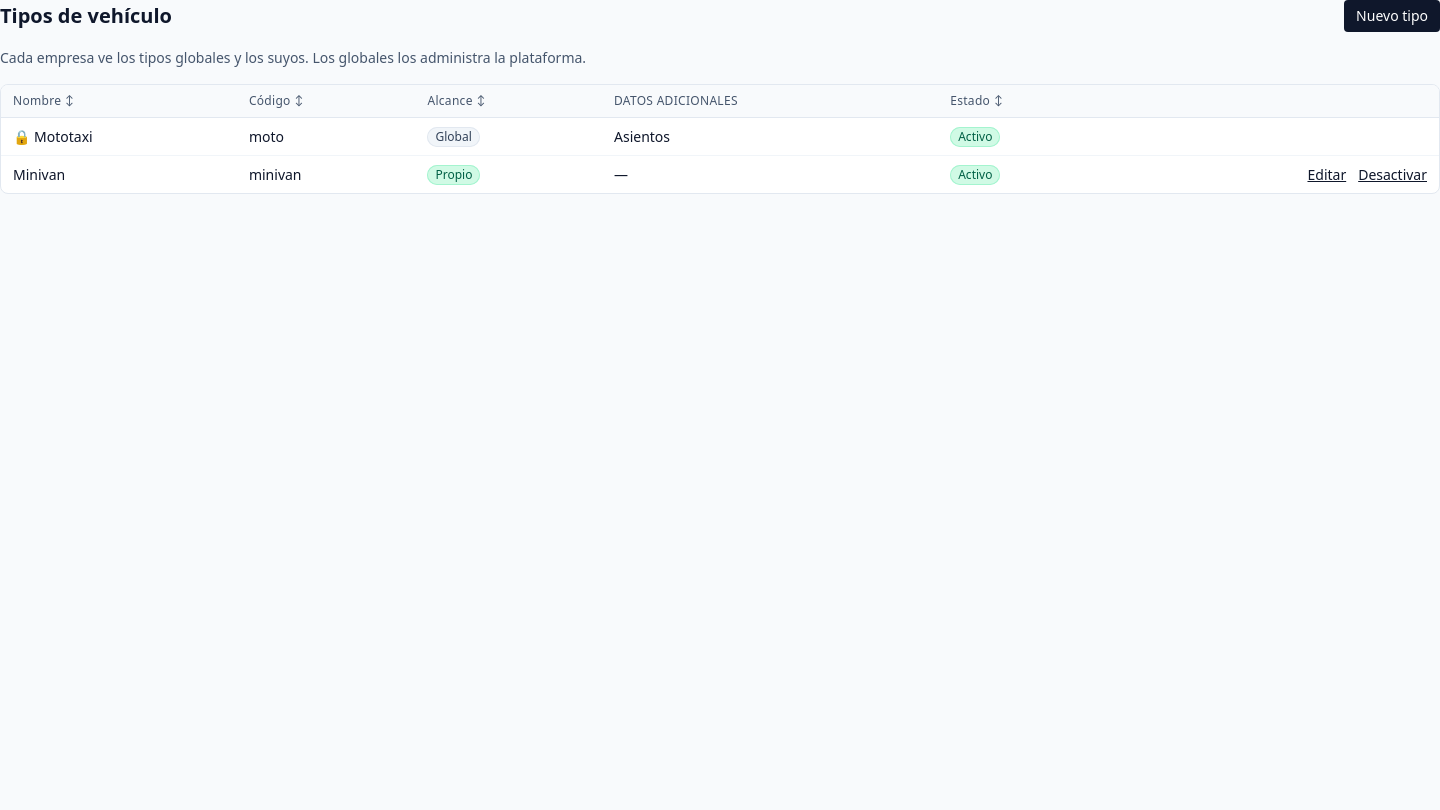
tipos de vehículo › el rechazo del servidor por un esquema no aditivo se muestra
Step 1. Click the button "Editar" → [1327, 174], box [1308,164,1346,184]
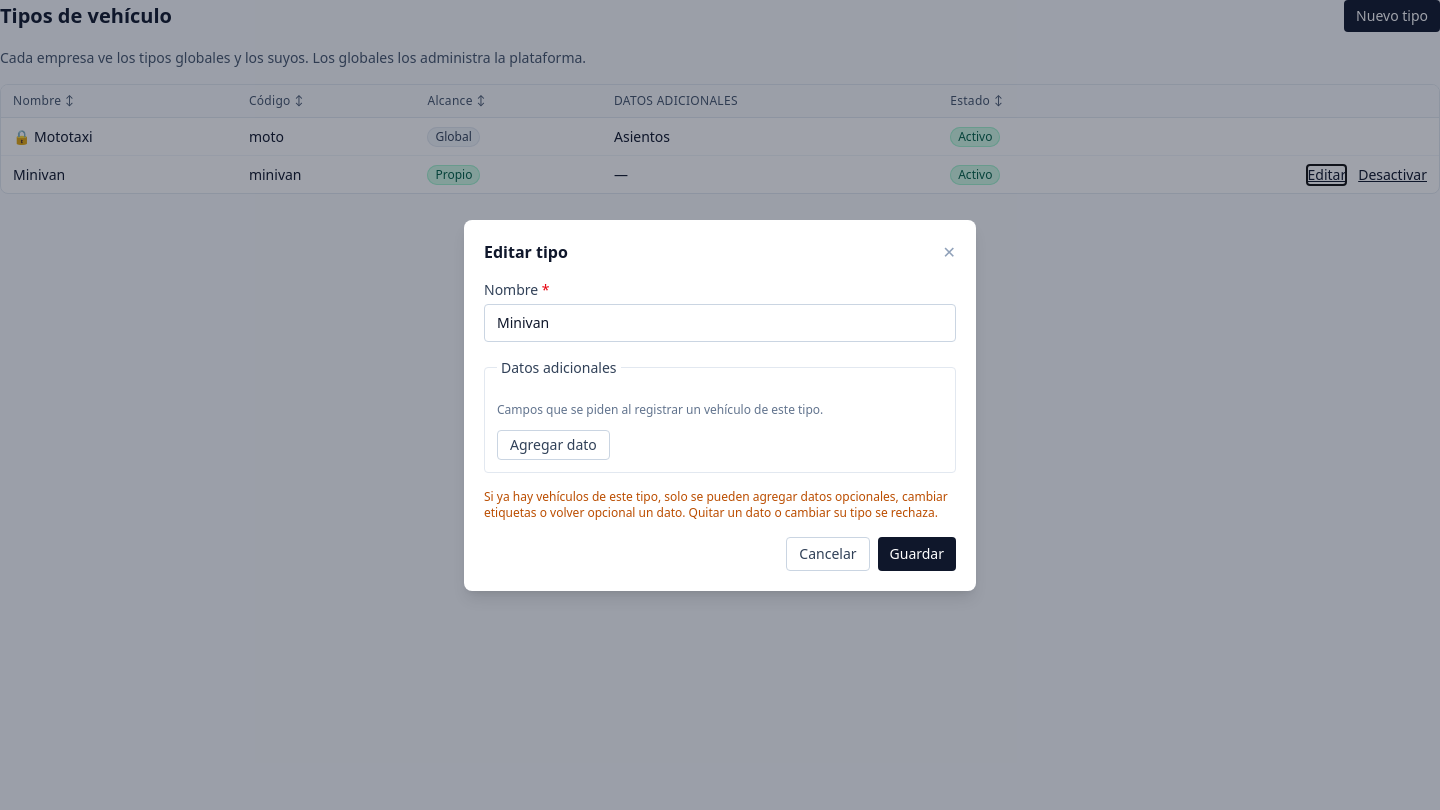
Step 2. Click the button "Guardar" → [917, 554], box [878,536,956,570]
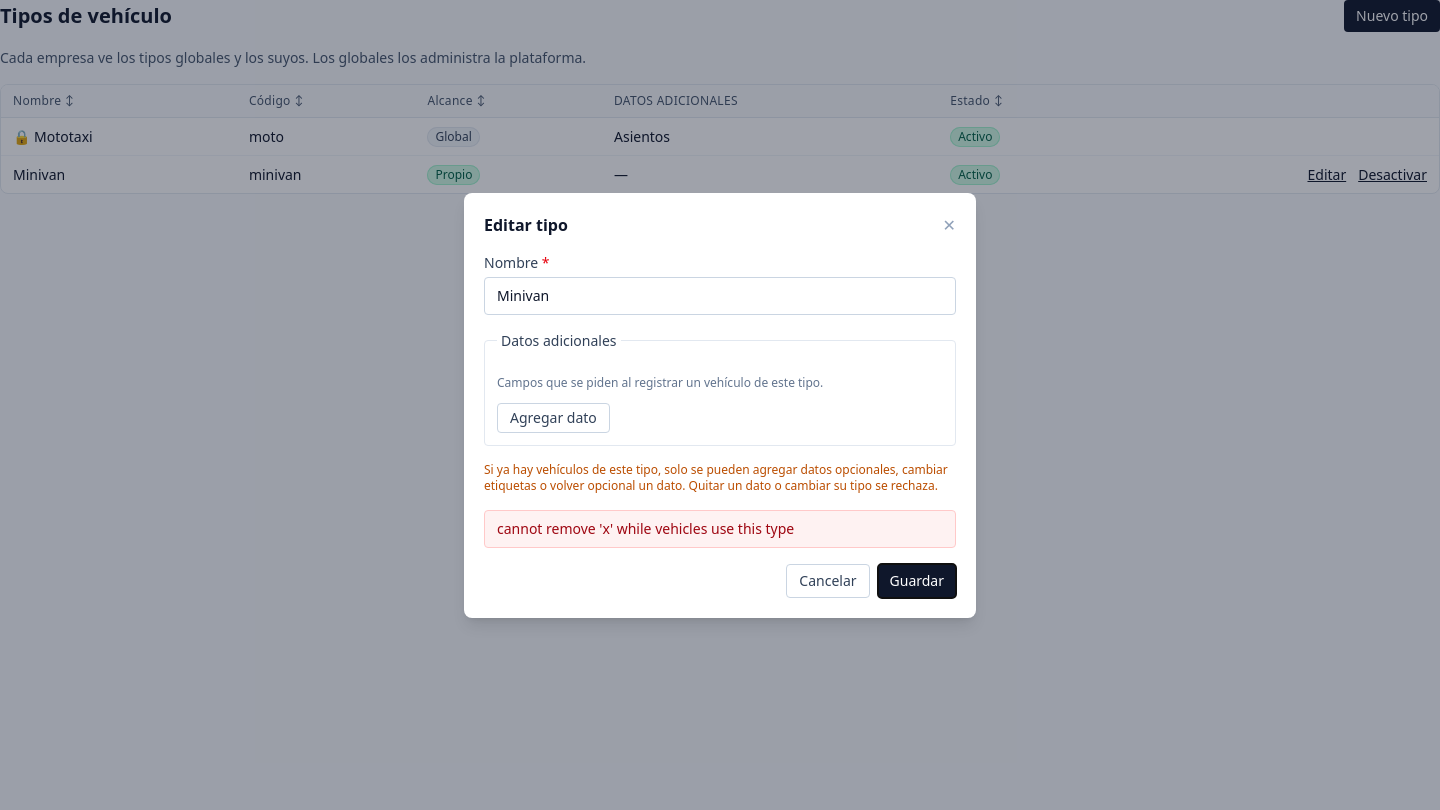
expect the message shows "cannot remove": met, box [497,518,794,538]
